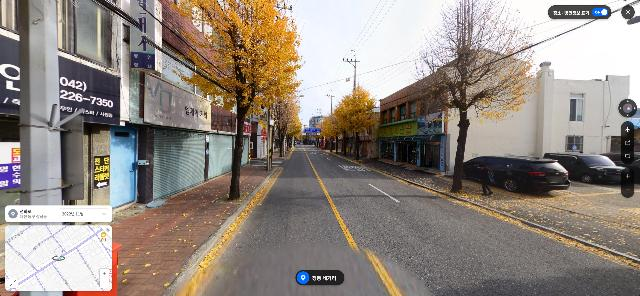ginkgo: (409, 0, 552, 192), (171, 0, 307, 201), (335, 84, 378, 160), (268, 96, 301, 159), (329, 106, 349, 155), (284, 105, 303, 154), (317, 113, 337, 152)
